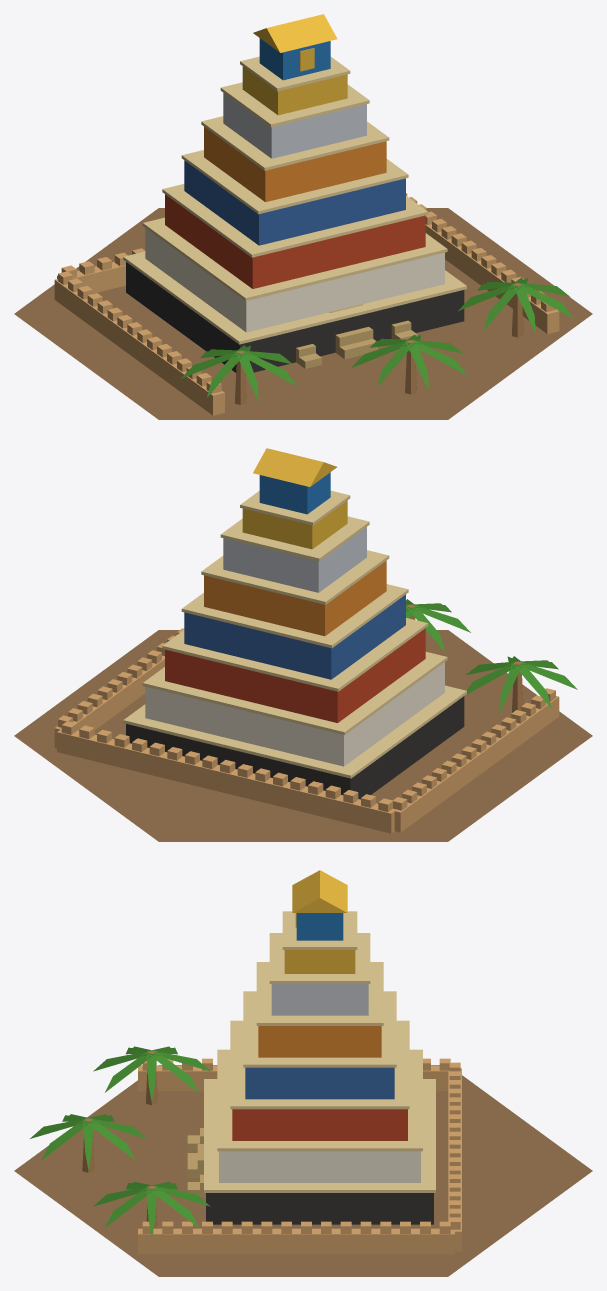
File: wonder_etemenanki.fbx
3 views of the same model, one above another, from view 1: azimuth 30°, elevation 25°; view 2: azimuth 150°, elevation 25°; view 3: azimuth 270°, elevation 25° (orthographic).
Visible parts, largest first — view 1: wonder_etemenanki; view 2: wonder_etemenanki; view 3: wonder_etemenanki.
Boxes of the visible parts, bbox=[...] form: wonder_etemenanki: bbox=[14, 14, 592, 419]; wonder_etemenanki: bbox=[14, 448, 592, 841]; wonder_etemenanki: bbox=[14, 870, 592, 1276].
Bounding box in the file's own units: 182 × 115 × 210.
